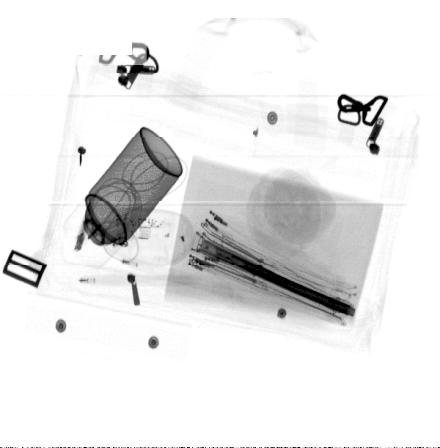Sprayer: (63, 124, 186, 274)
